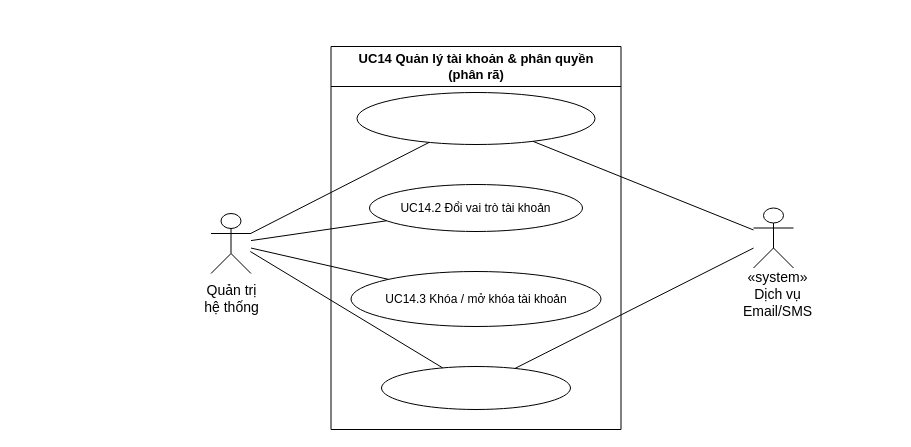
Some shapes in this 911 by 447 pixel diagram are drawn without their labels. The centre of each missing label's shape, as x and y in pixels:
UC14.1 Tạo tài khoản nhân viên: point (475, 118)
UC14.4 Đặt lại mật khẩu: point (475, 388)
